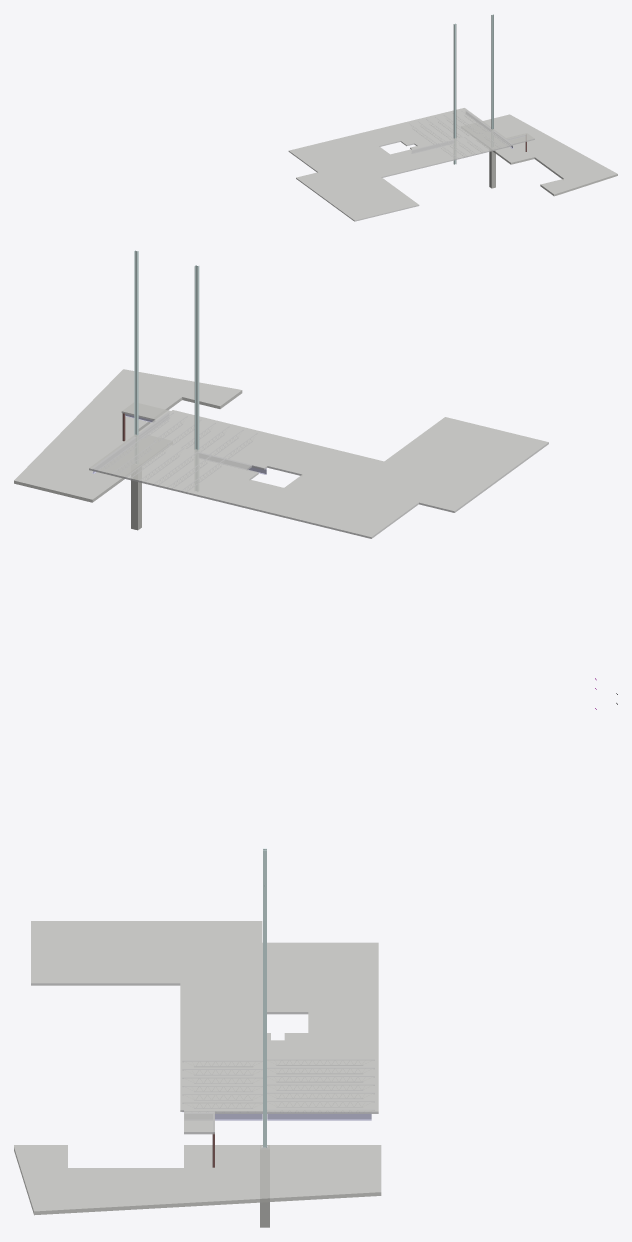
The model's file is ISSUE-002-neighbors.glb.
3 views of the same model, one above another, from view 1: azimuth 30°, elevation 25°; view 2: azimuth 150°, elevation 25°; view 3: azimuth 270°, elevation 25° (orthographic). The views are drawn at different scales.
Visible parts, largest first — view 1: 4006 (×2), 3860, 3296, 3294; view 2: 4006 (×2), 3860, 3296, 3294; view 3: 4006 (×2), 3860, 3294, 3382.
Boxes of the visible parts, <box> form: 4006 (×2): <box>288,108,534,221</box>; 3860: <box>483,114,617,196</box>; 3296: <box>453,23,456,164</box>; 3294: <box>491,14,493,129</box>; 4006 (×2): <box>89,402,548,538</box>; 3860: <box>14,369,242,502</box>; 3296: <box>194,265,199,450</box>; 3294: <box>134,250,138,435</box>; 4006 (×2): <box>31,921,378,1134</box>; 3860: <box>14,1145,381,1215</box>; 3294: <box>263,885,266,1147</box>; 3382: <box>267,1114,371,1120</box>.
Size of the model in its own units: 63.99 by 23.11 by 37.24.
